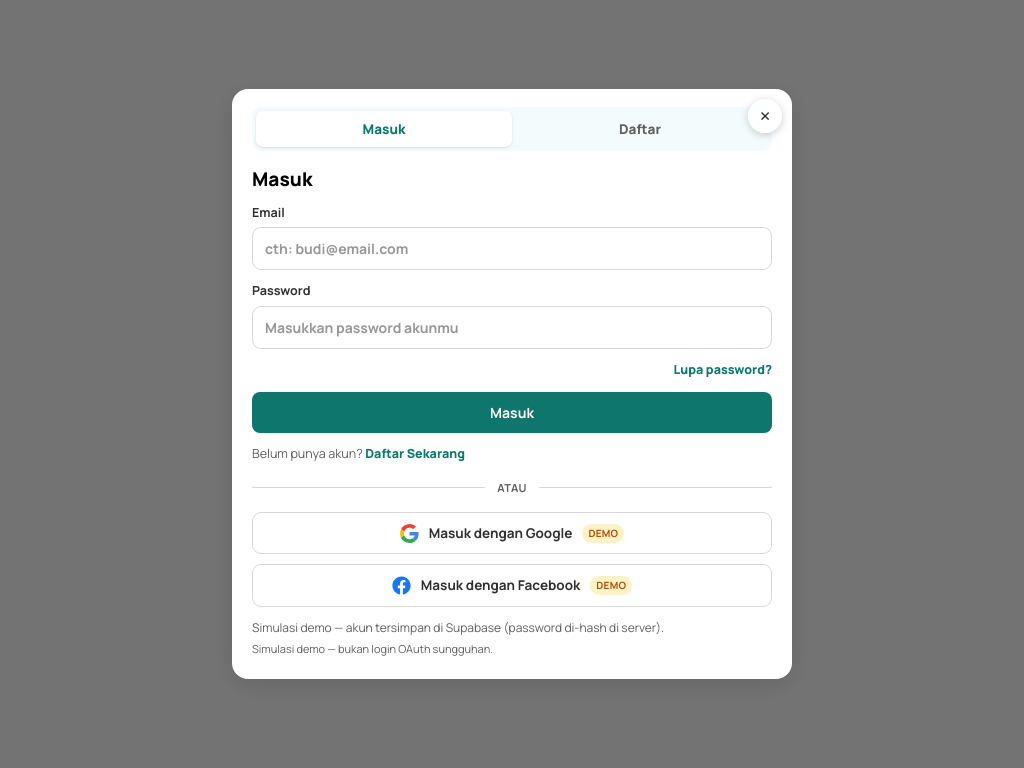
AuthModal › alur lupa password: kirim tautan dan tampilkan pesan netral
Click the button "Lupa password?" at (723, 371), box [674,361,772,380]
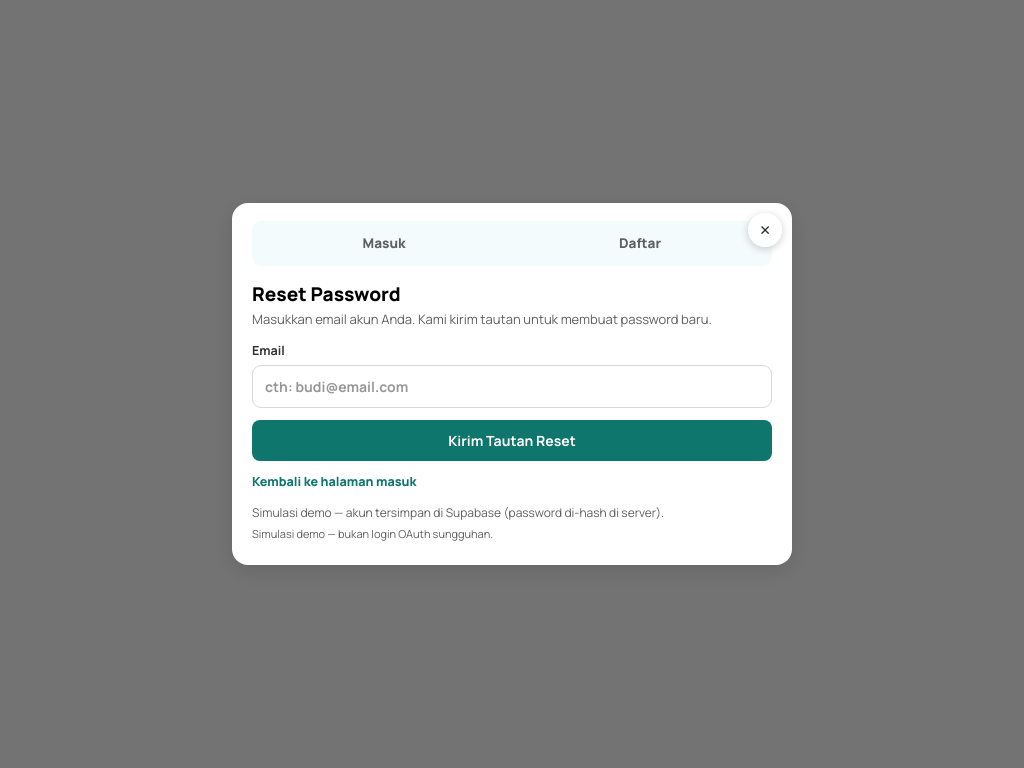
Check: the heading "Reset Password" is shown, box [252,280,401,306]
Type "siti@email.com" into the field labelled "Email" at (512, 387), box [252,366,772,408]
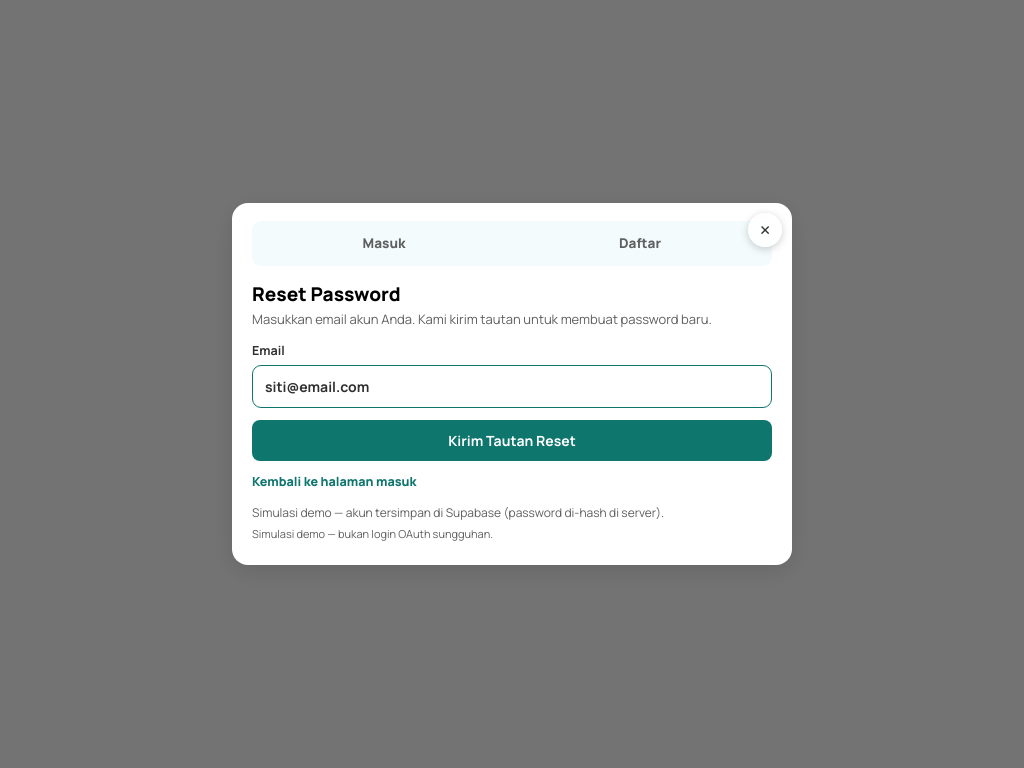
Click the button "Kirim Tautan Reset" at (512, 441), box [252,420,772,462]
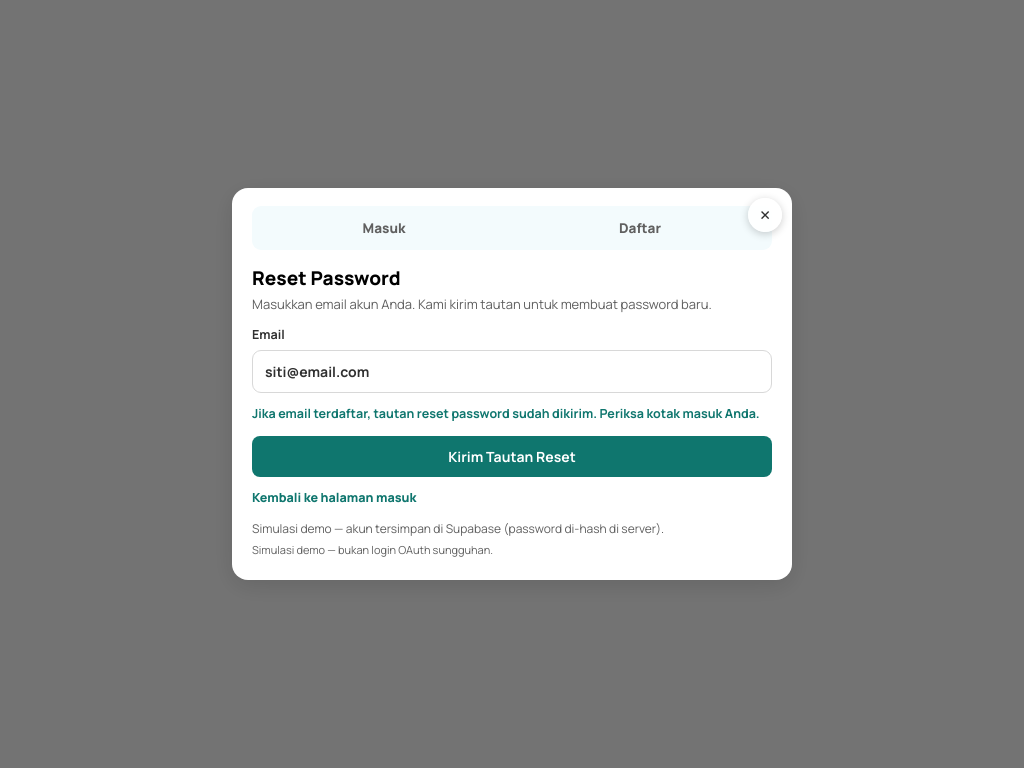
Check: the message shows "Jika email terdaftar", box [252,405,760,422]
